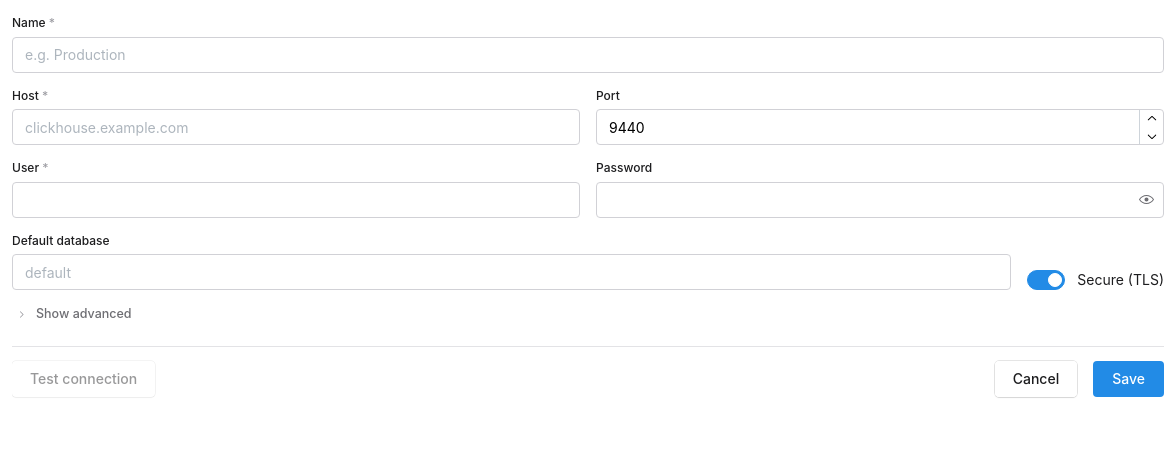
Scenario: ConnectionForm › marks missing fields inline instead of saving
In the field labelled "Host *": (296, 127) [12, 109, 580, 145], type "ch.example.com"
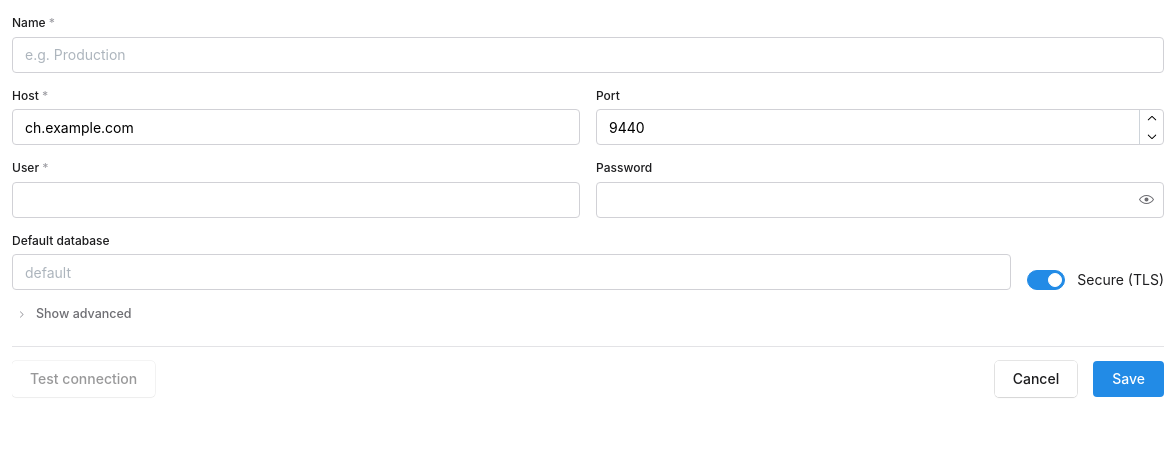
Click the button "Save": (1129, 379) [1093, 361, 1164, 397]
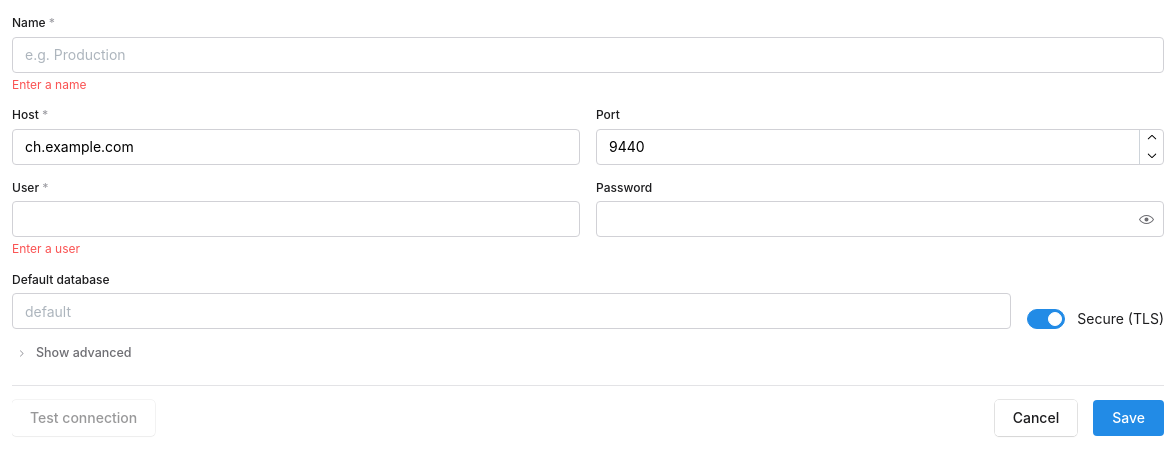
Expected: the text "Enter a name" is shown, [12, 77, 86, 92]
Expected: the text "Enter a user" is shown, [12, 241, 80, 256]
In the field labelled "Name *": (588, 55) [12, 37, 1164, 73], type "Prod"
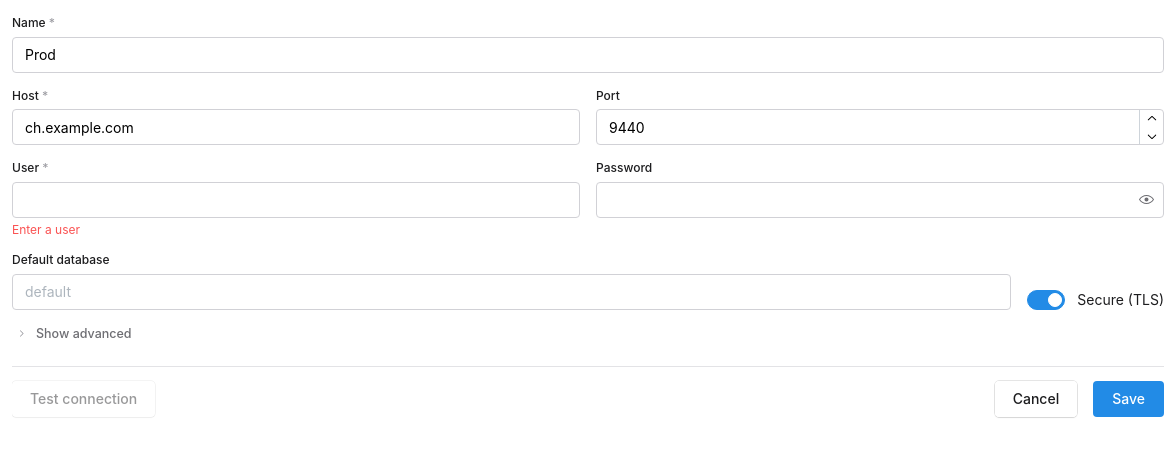
Expected: the text "Enter a name" is gone
